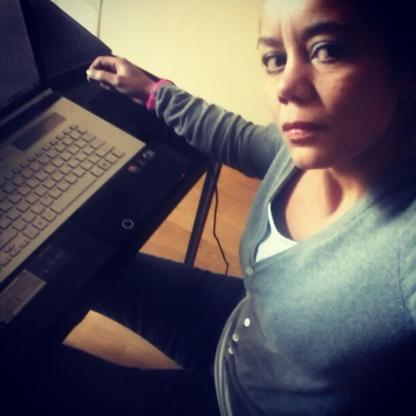board: (0, 1, 147, 281)
